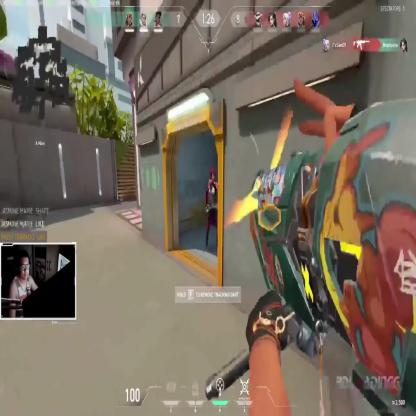enemy: (202, 169, 223, 256)
enemy_head: (209, 168, 215, 182)
